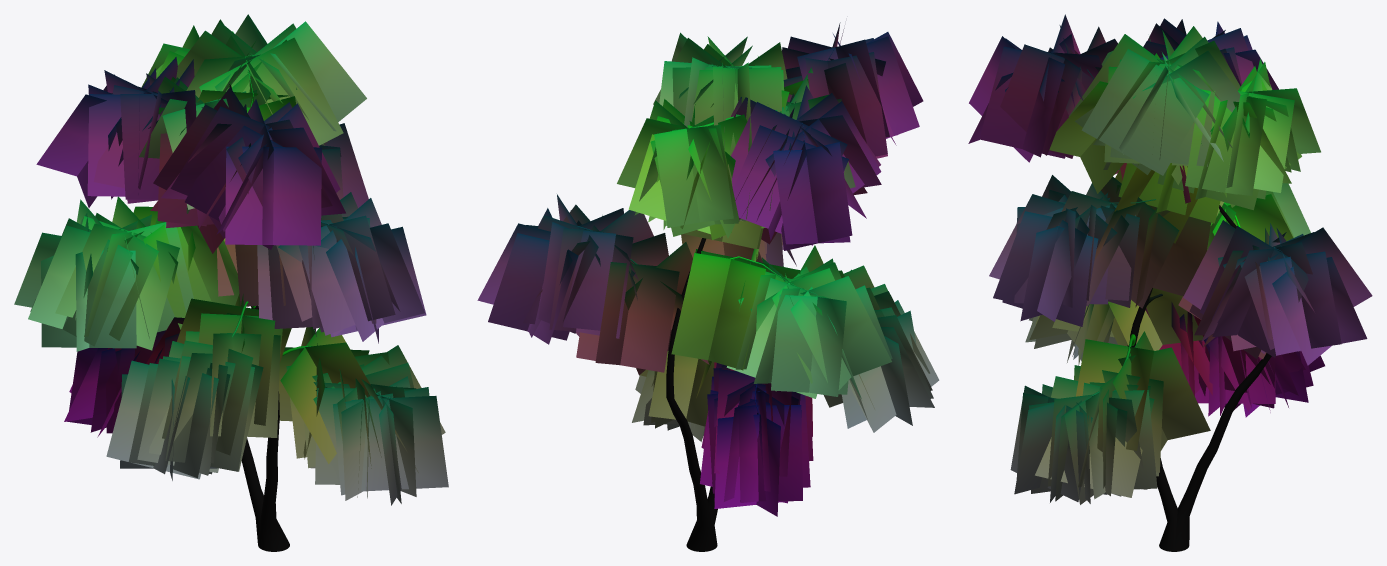
File: URP_P13_Tree_5_LOD_0.fbx
3 views of the same model, side by side, from view 1: azimuth 30°, elevation 25°; view 2: azimuth 150°, elevation 25°; view 3: azimuth 270°, elevation 25° (orthographic). The views are drawn at different scales.
Parts seen in each view (by area): view 1: Tree_5_LOD_0; view 2: Tree_5_LOD_0; view 3: Tree_5_LOD_0.
Part boxes in pixels (x1,y1,x2,y2): Tree_5_LOD_0: (14,14,448,551); Tree_5_LOD_0: (477,22,939,551); Tree_5_LOD_0: (968,14,1372,551).
Size of the model in its own units: 446 by 601 by 447.
